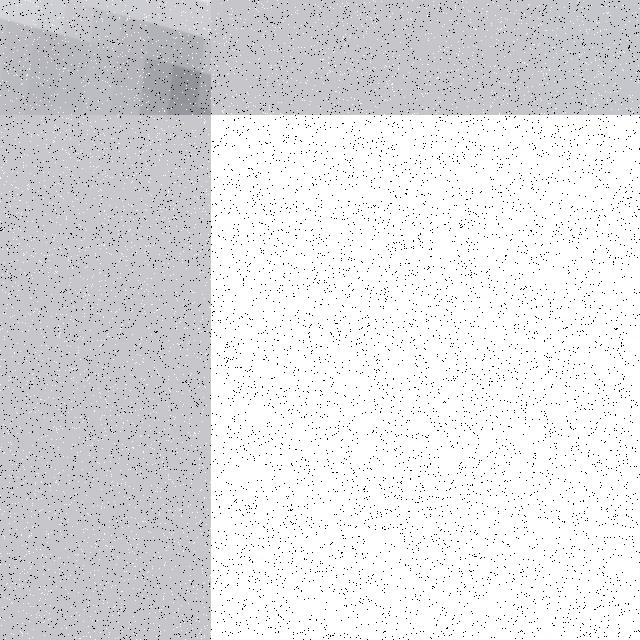0: (0, 0, 211, 115)
drone: (211, 115, 640, 640)
